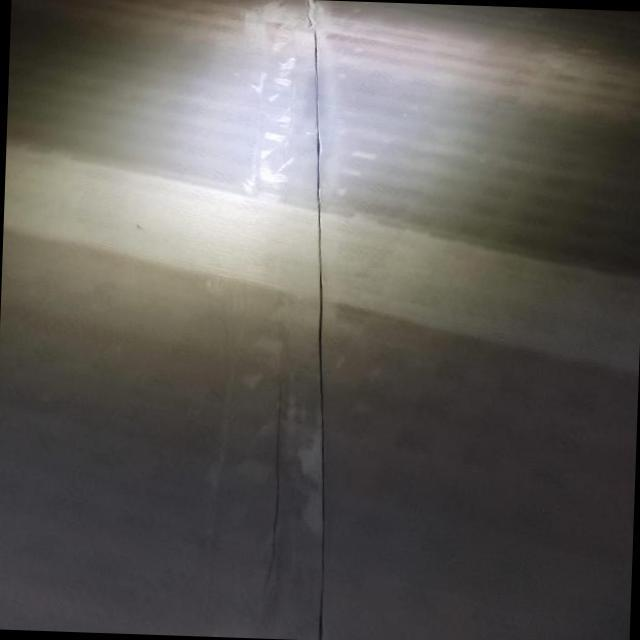Tear: (300, 10, 334, 640)
